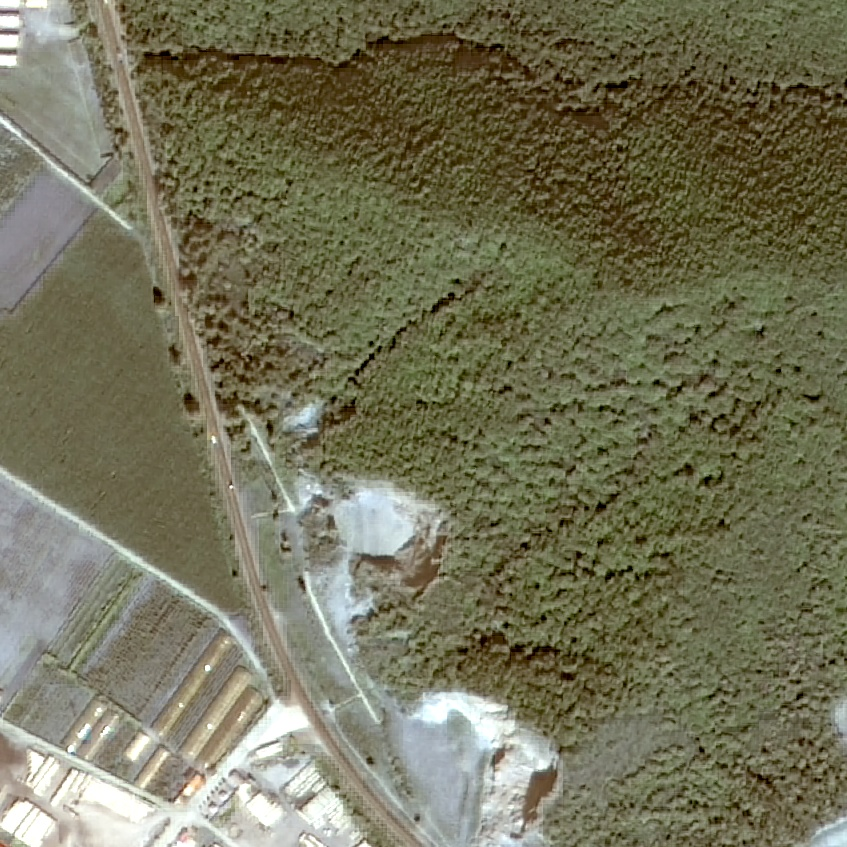slope: (292, 467, 451, 590), (277, 396, 332, 437)
